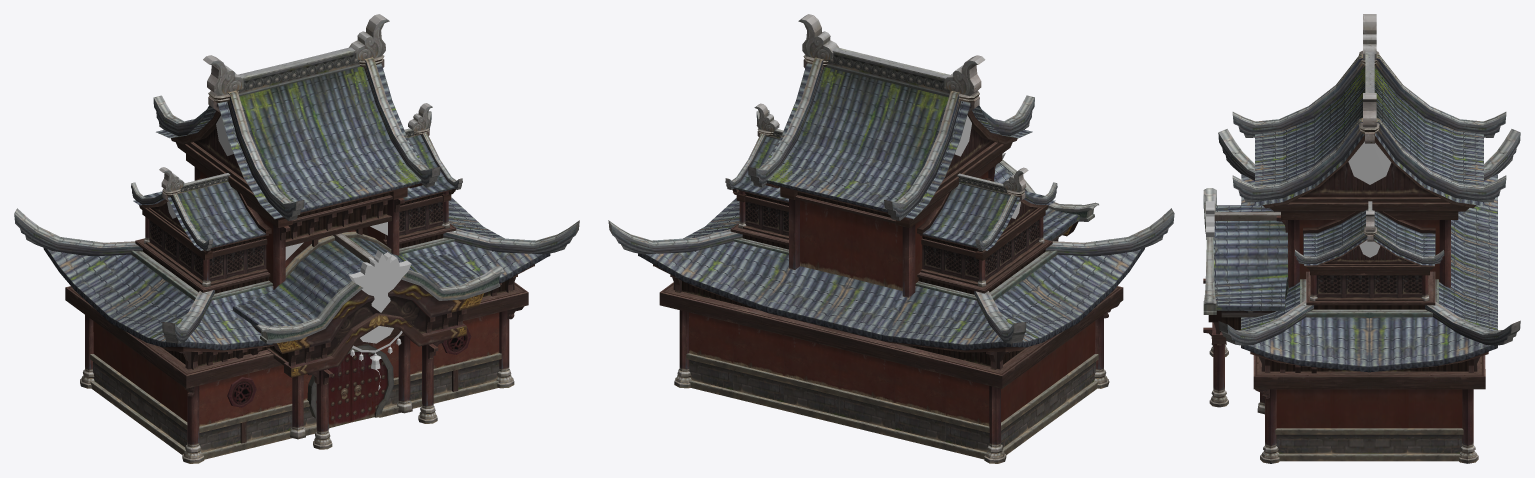
File: build_02_01.FBX
3 views of the same model, side by side, from view 1: azimuth 30°, elevation 25°; view 2: azimuth 150°, elevation 25°; view 3: azimuth 270°, elevation 25° (orthographic). The views are drawn at different scales.
Parts seen in each view (by area): view 1: segment_11, segment_12; view 2: segment_11; view 3: segment_11, segment_12.
Boxes of the visible parts, bbox=[...] form: segment_11: bbox=[14, 14, 579, 463]; segment_12: bbox=[167, 116, 411, 390]; segment_11: bbox=[608, 14, 1174, 463]; segment_11: bbox=[1203, 14, 1520, 463]; segment_12: bbox=[1206, 141, 1391, 257].
Bounding box in the file's own units: 430 × 341 × 295.
